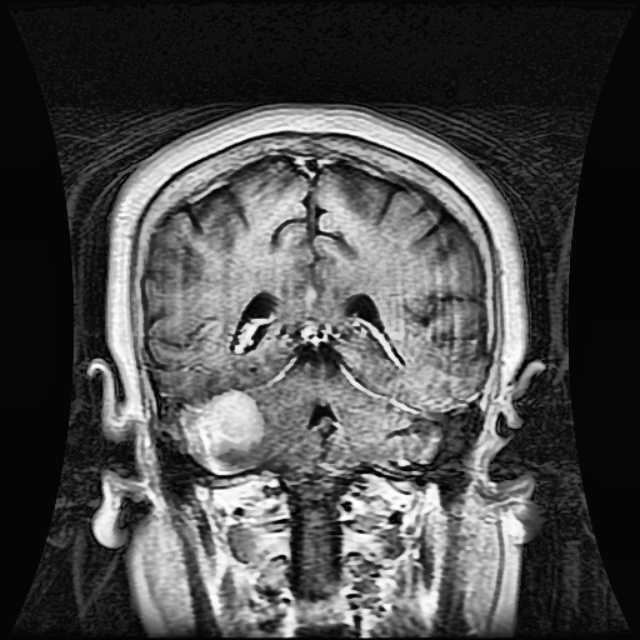Glioma: (180, 388, 263, 474)
